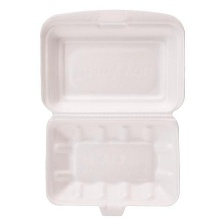foam_box: (33, 4, 192, 223)
